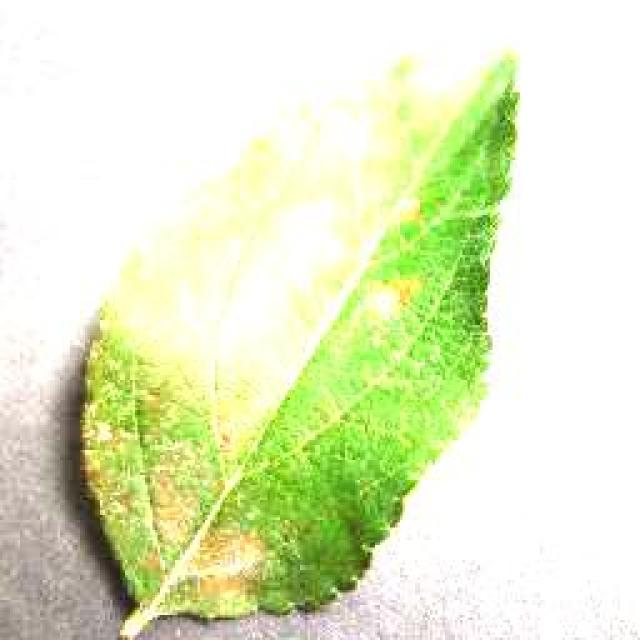apple rust disease: (75, 45, 523, 637)
